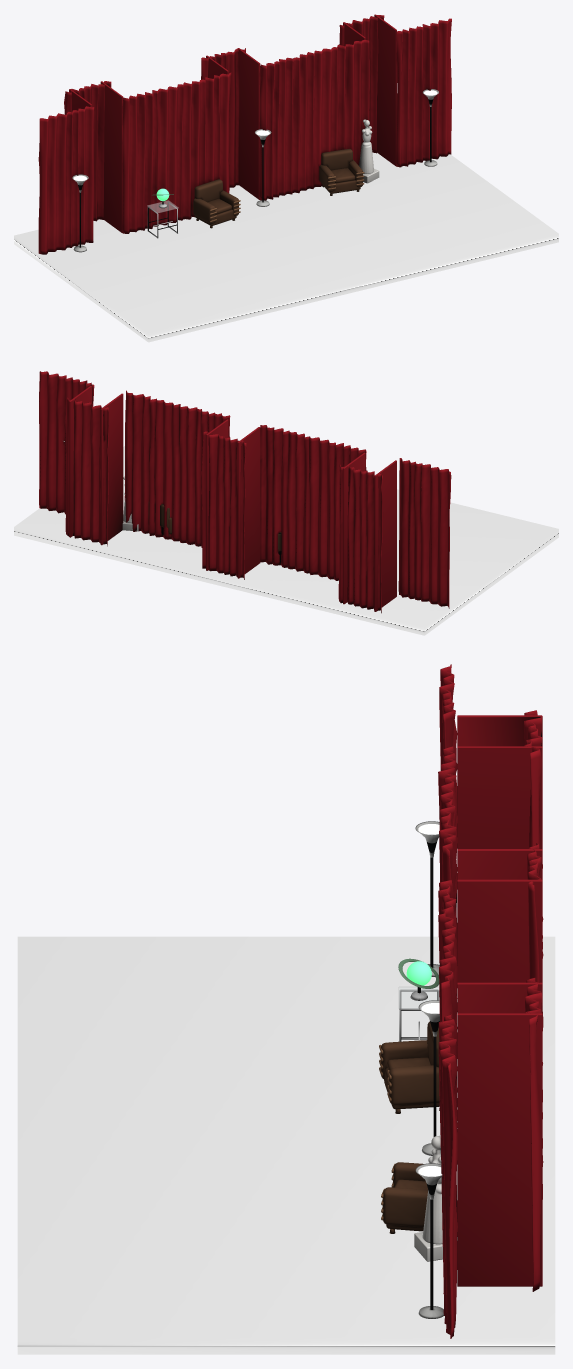
File: redroom.glb
3 views of the same model, one above another, from view 1: azimuth 30°, elevation 25°; view 2: azimuth 150°, elevation 25°; view 3: azimuth 270°, elevation 25° (orthographic). The views are drawn at different scales.
Parts seen in each view (by area): view 1: Floor • chevron, Curtain • back 0, Curtain • back 10, Curtain • back end, Curtain • back -10, Alcove jamb.003, Alcove jamb.005, Alcove jamb.001, Curtain • alcove -10, Curtain • alcove 0, Curtain • alcove 10, Venus statue (+3 smaller); view 2: Floor • chevron, Curtain • back 0, Curtain • back 10, Curtain • back -10, Curtain • alcove 0, Curtain • alcove -10, Curtain • alcove 10, Curtain • back end, Alcove jamb.002, Alcove jamb.004, Alcove jamb, Alcove jamb.001 (+2 smaller); view 3: Floor • chevron, Alcove jamb.005, Alcove jamb.003, Alcove jamb.001, Curtain • back end, Curtain • alcove 10, Curtain • back 10, Curtain • back 0, Alcove jamb.002, Alcove jamb.004, Alcove jamb, Chair • arm.001 (+6 smaller).
Part boxes in pixels (x1=…): Floor • chevron: x1=14, y1=152, x2=558, y2=342; Curtain • back 0: x1=122, y1=72, x2=231, y2=233; Curtain • back 10: x1=259, y1=39, x2=369, y2=200; Curtain • back end: x1=396, y1=18, x2=451, y2=167; Curtain • back -10: x1=38, y1=106, x2=94, y2=254; Alcove jamb.003: x1=237, y1=48, x2=260, y2=199; Alcove jamb.005: x1=374, y1=14, x2=396, y2=165; Alcove jamb.001: x1=100, y1=81, x2=123, y2=232; Curtain • alcove -10: x1=64, y1=81, x2=111, y2=221; Curtain • alcove 0: x1=201, y1=48, x2=245, y2=187; Curtain • alcove 10: x1=339, y1=15, x2=384, y2=153; Venus statue: x1=359, y1=119, x2=373, y2=173; Floor • chevron: x1=14, y1=446, x2=558, y2=635; Curtain • back 0: x1=260, y1=425, x2=366, y2=580; Curtain • back 10: x1=124, y1=390, x2=230, y2=547; Curtain • back -10: x1=398, y1=458, x2=451, y2=608; Curtain • alcove 0: x1=201, y1=431, x2=246, y2=579; Curtain • alcove -10: x1=338, y1=464, x2=383, y2=613; Curtain • alcove 10: x1=65, y1=397, x2=108, y2=546; Curtain • back end: x1=39, y1=371, x2=94, y2=514; Alcove jamb.002: x1=237, y1=427, x2=260, y2=578; Alcove jamb.004: x1=100, y1=393, x2=123, y2=545; Alcove jamb: x1=374, y1=460, x2=396, y2=611; Alcove jamb.001: x1=343, y1=452, x2=365, y2=604; Floor • chevron: x1=17, y1=936, x2=555, y2=1354; Alcove jamb.005: x1=457, y1=1013, x2=542, y2=1286; Alcove jamb.003: x1=457, y1=879, x2=542, y2=982; Alcove jamb.001: x1=457, y1=746, x2=542, y2=849; Curtain • back end: x1=438, y1=1012, x2=457, y2=1338; Curtain • alcove 10: x1=525, y1=977, x2=543, y2=1291; Curtain • back 10: x1=438, y1=880, x2=457, y2=1236; Curtain • back 0: x1=438, y1=746, x2=457, y2=1092; Alcove jamb.002: x1=457, y1=849, x2=542, y2=879; Alcove jamb.004: x1=457, y1=982, x2=542, y2=1013; Alcove jamb: x1=457, y1=715, x2=542, y2=746; Chair • arm.001: x1=389, y1=1065, x2=439, y2=1105.
Size of the model in its own units: 30.09 by 10.1 by 17.
